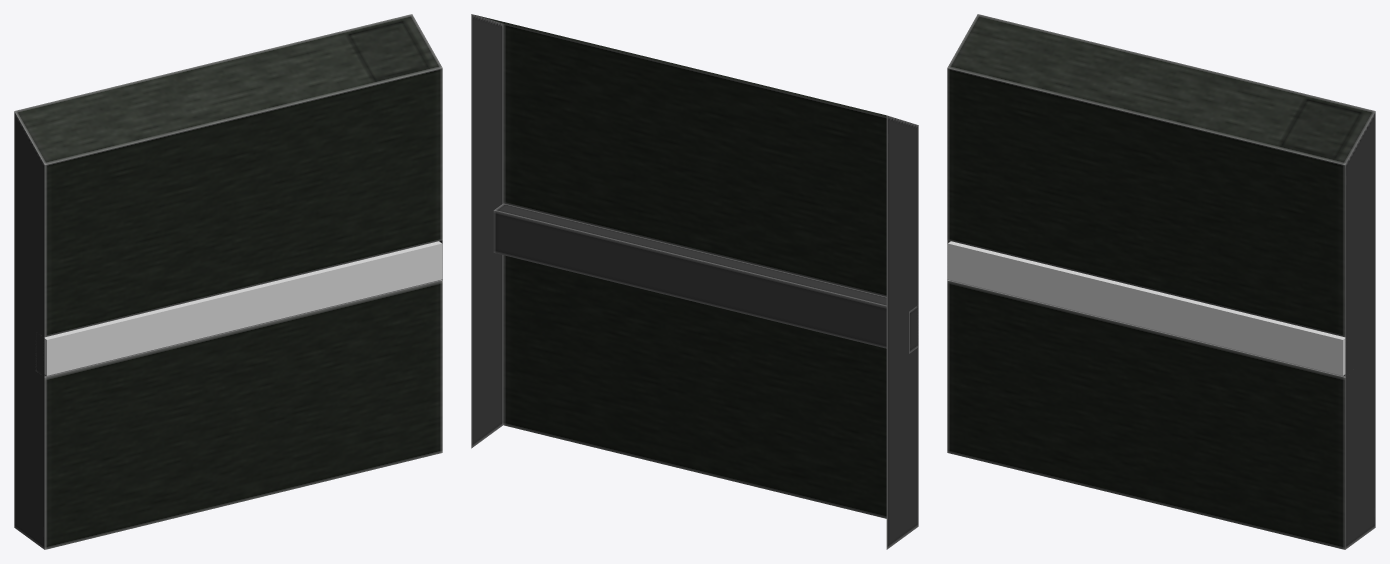
File: CubeBaseFrontWall.fbx
3 views of the same model, side by side, from view 1: azimuth 30°, elevation 25°; view 2: azimuth 150°, elevation 25°; view 3: azimuth 330°, elevation 25° (orthographic). The views are drawn at different scales.
Visible parts, largest first — view 1: pCube1, pCube2; view 2: pCube1; view 3: pCube1, pCube2.
Boxes of the visible parts, x1,y1,x2,y2 form: pCube1: [14, 14, 442, 549]; pCube2: [44, 241, 442, 375]; pCube1: [471, 14, 918, 549]; pCube1: [947, 14, 1375, 549]; pCube2: [947, 241, 1345, 375].
Bounding box in the file's own units: 1 × 1 × 0.1366.
Materials: 2 (1 with a texture image).
